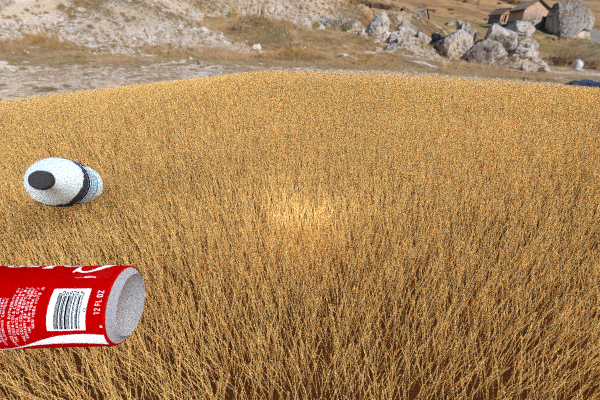Plastic Bottle: (0, 265, 145, 350), (23, 157, 103, 207)
